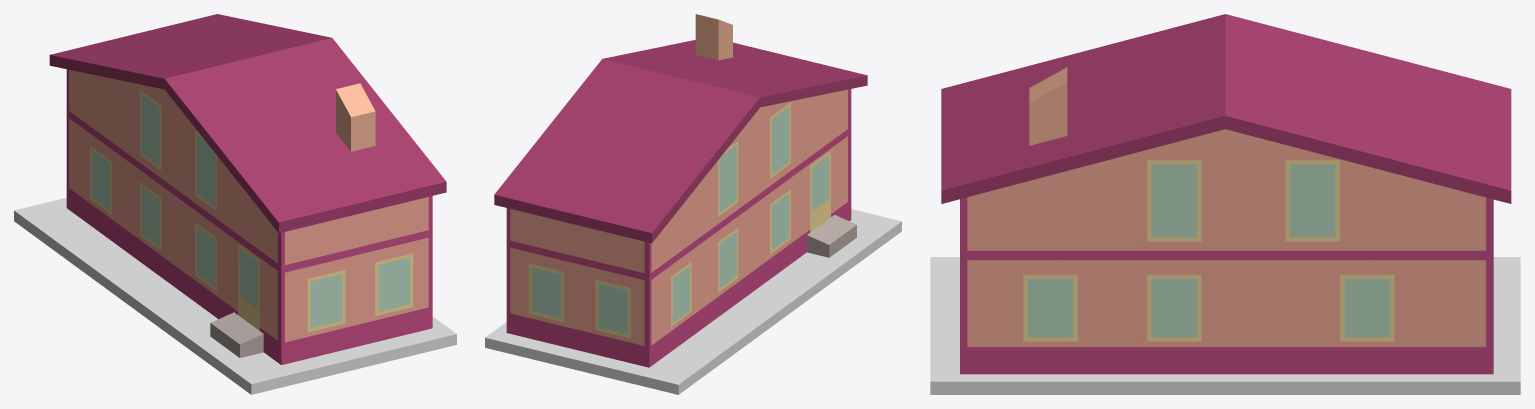
File: Big_House_3.FBX
3 views of the same model, side by side, from view 1: azimuth 30°, elevation 25°; view 2: azimuth 150°, elevation 25°; view 3: azimuth 270°, elevation 25° (orthographic). The views are drawn at different scales.
Visible parts, largest first — view 1: Box003, Box036; view 2: Box003, Box036; view 3: Box003, Box036.
Boxes of the visible parts, left/top/right/bottom form: Box003: left=49, top=14, right=446, bottom=364; Box036: left=14, top=197, right=456, bottom=394; Box003: left=494, top=14, right=867, bottom=367; Box036: left=485, top=209, right=901, bottom=394; Box003: left=941, top=14, right=1511, bottom=374; Box036: left=930, top=257, right=1520, bottom=394.
Bounding box in the file's own units: 1 × 1.08 × 2.
Materials: 4 (4 with a texture image).
